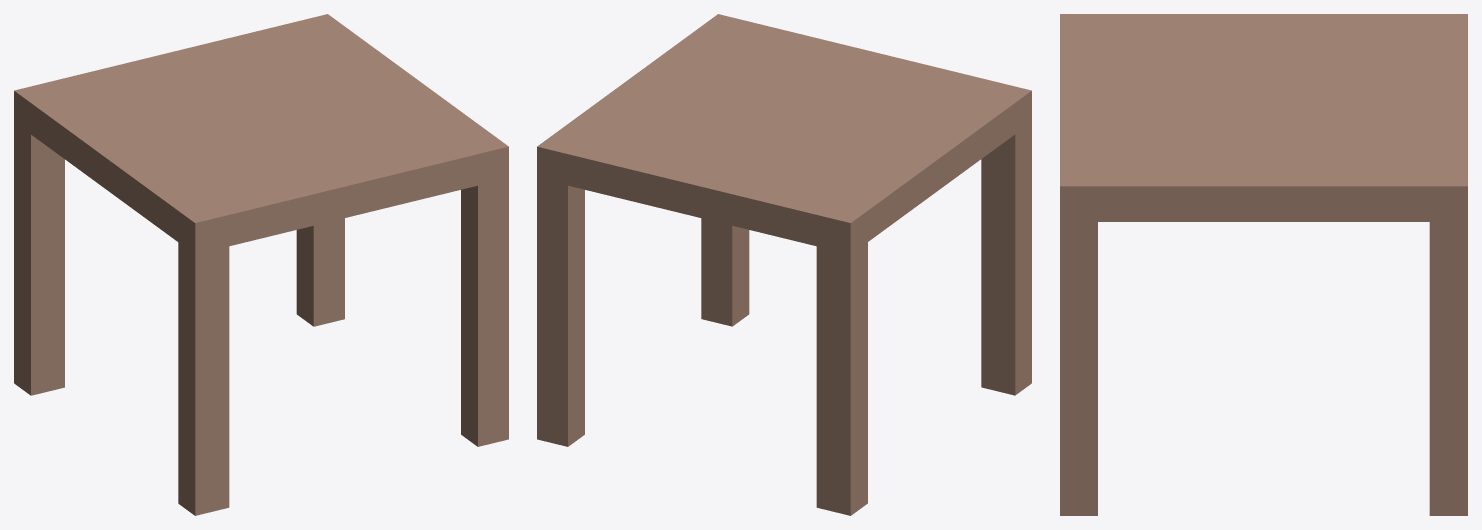
Rendered from taboret.fbx.
3 renders of one model, left to right at view 1: azimuth 30°, elevation 25°; view 2: azimuth 150°, elevation 25°; view 3: azimuth 270°, elevation 25°, orthographic. The views are drawn at different scales.
Visible parts, largest first — view 1: Table; view 2: Table; view 3: Table.
Boxes of the visible parts, <box> form: Table: <box>14,14,508,515</box>; Table: <box>537,14,1031,515</box>; Table: <box>1060,14,1467,515</box>.
Bounding box in the file's own units: 200 × 178 × 200.
